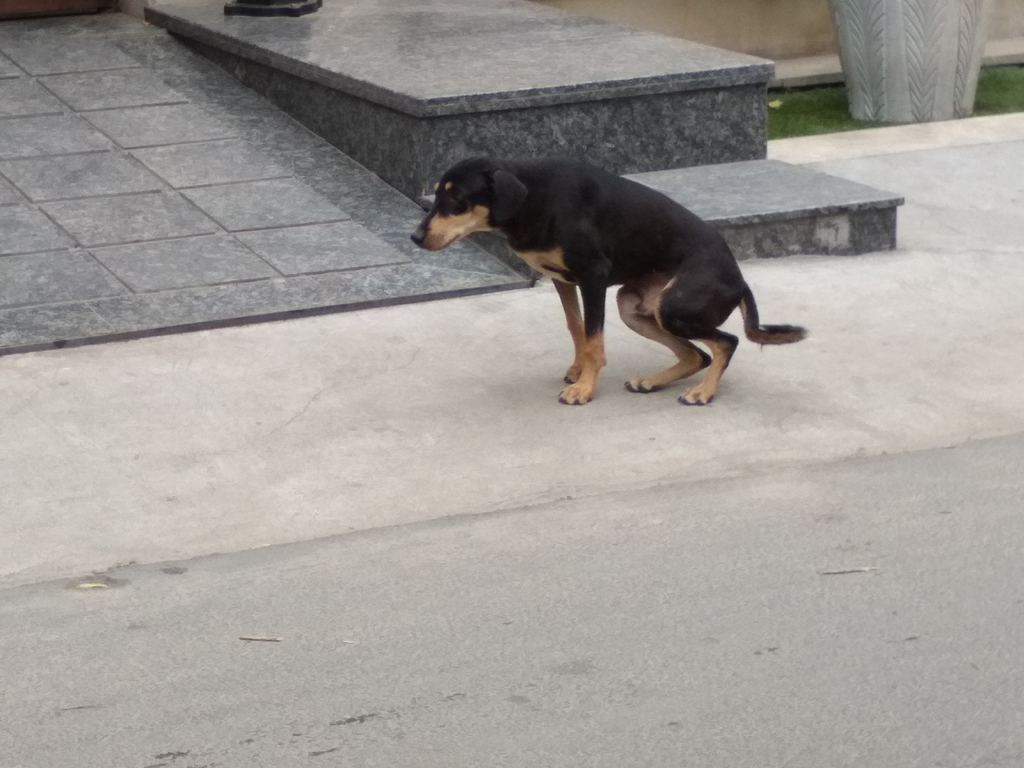dog: (411, 155, 809, 404)
